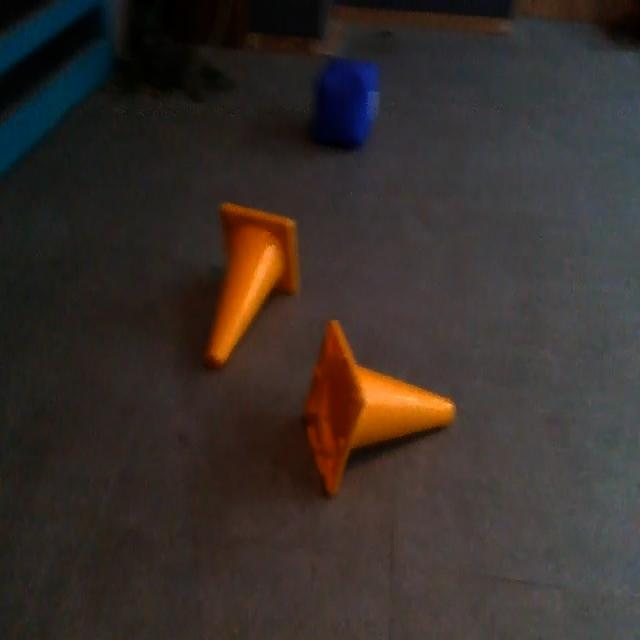cone: (300, 324, 456, 498), (202, 205, 302, 367)
cube: (313, 59, 382, 144)
